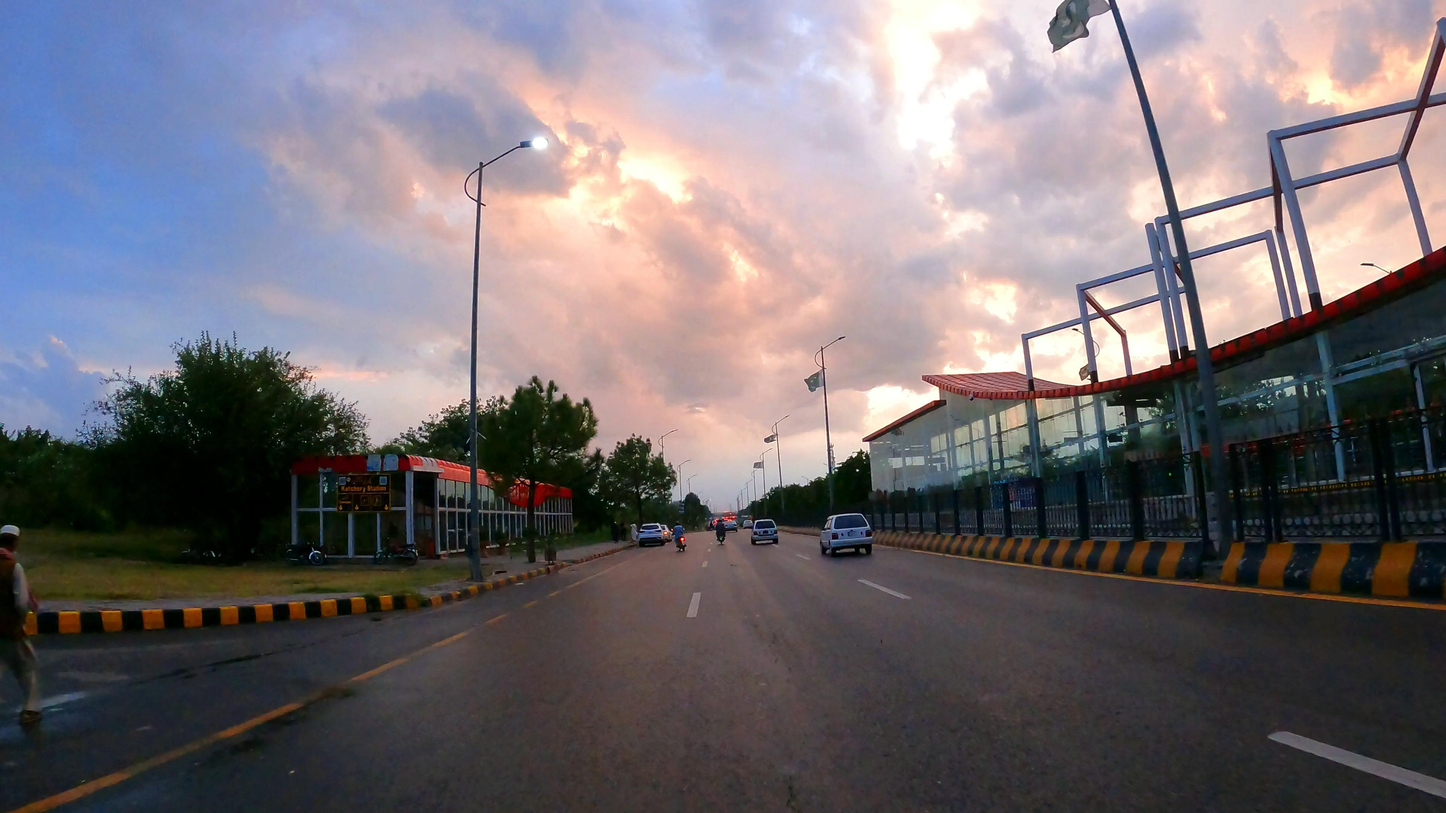dry: (0, 522, 1446, 813)
